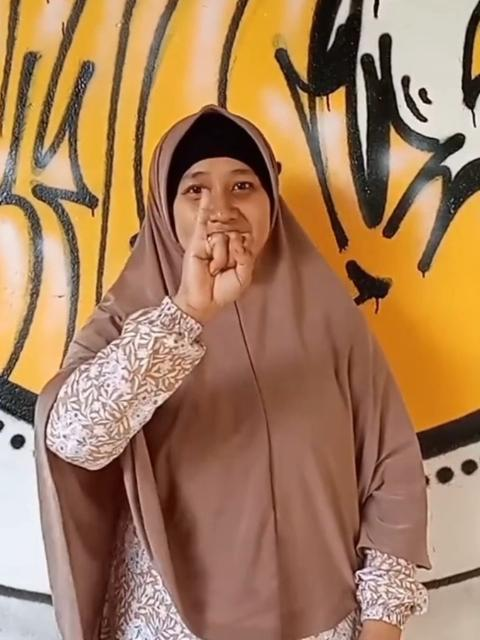I: (179, 191, 257, 335)
